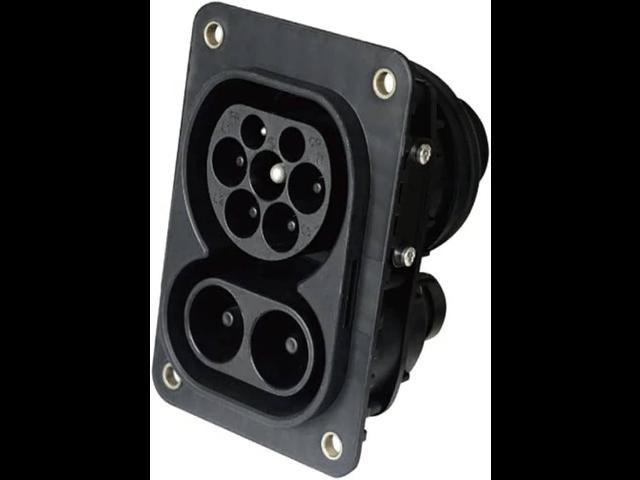inlet: (206, 104, 331, 260)
inlet-above-left: (240, 115, 267, 151)
inlet-above-right: (278, 126, 306, 163)
inlet-below-left: (222, 189, 259, 240)
inlet-below-right: (260, 201, 300, 252)
inlet-circle: (248, 150, 285, 201)
inlet-circle-left: (211, 137, 247, 189)
inlet-circle-right: (287, 162, 324, 214)
inlet-minus: (248, 309, 307, 391)
inlet-plus: (187, 285, 242, 363)
